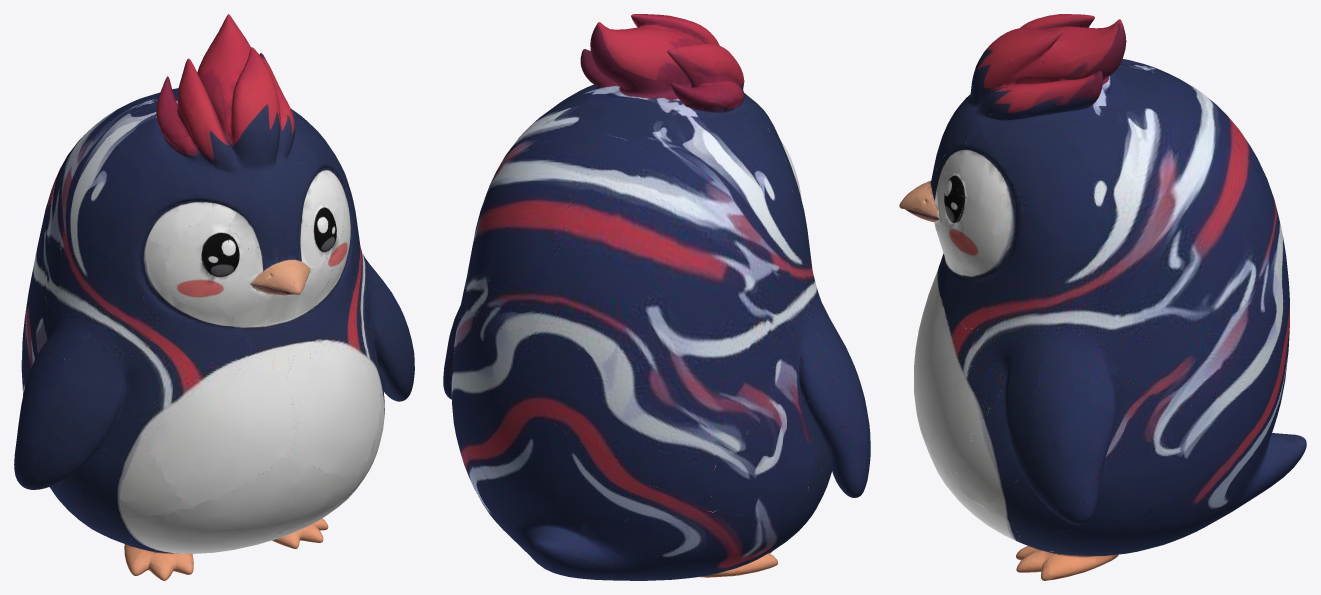
The picture shows the model from 3 angles, left to right: view 1: azimuth 30°, elevation 25°; view 2: azimuth 150°, elevation 25°; view 3: azimuth 270°, elevation 25°; orthographic projection. The views are drawn at different scales.
Visible parts, largest first — view 1: Mesh_0; view 2: Mesh_0; view 3: Mesh_0.
Part boxes in pixels (bbox=[...]): Mesh_0: bbox=[14, 14, 414, 580]; Mesh_0: bbox=[443, 14, 870, 580]; Mesh_0: bbox=[899, 14, 1306, 580].
Bounding box in the file's own units: 1.54 × 1.9 × 1.32.
Materials: 1 (1 with a texture image).
